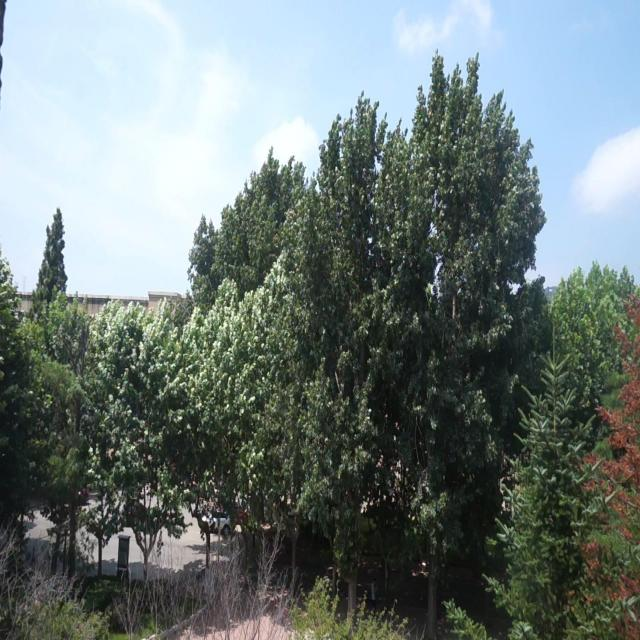UAV: (193, 245, 201, 252)
